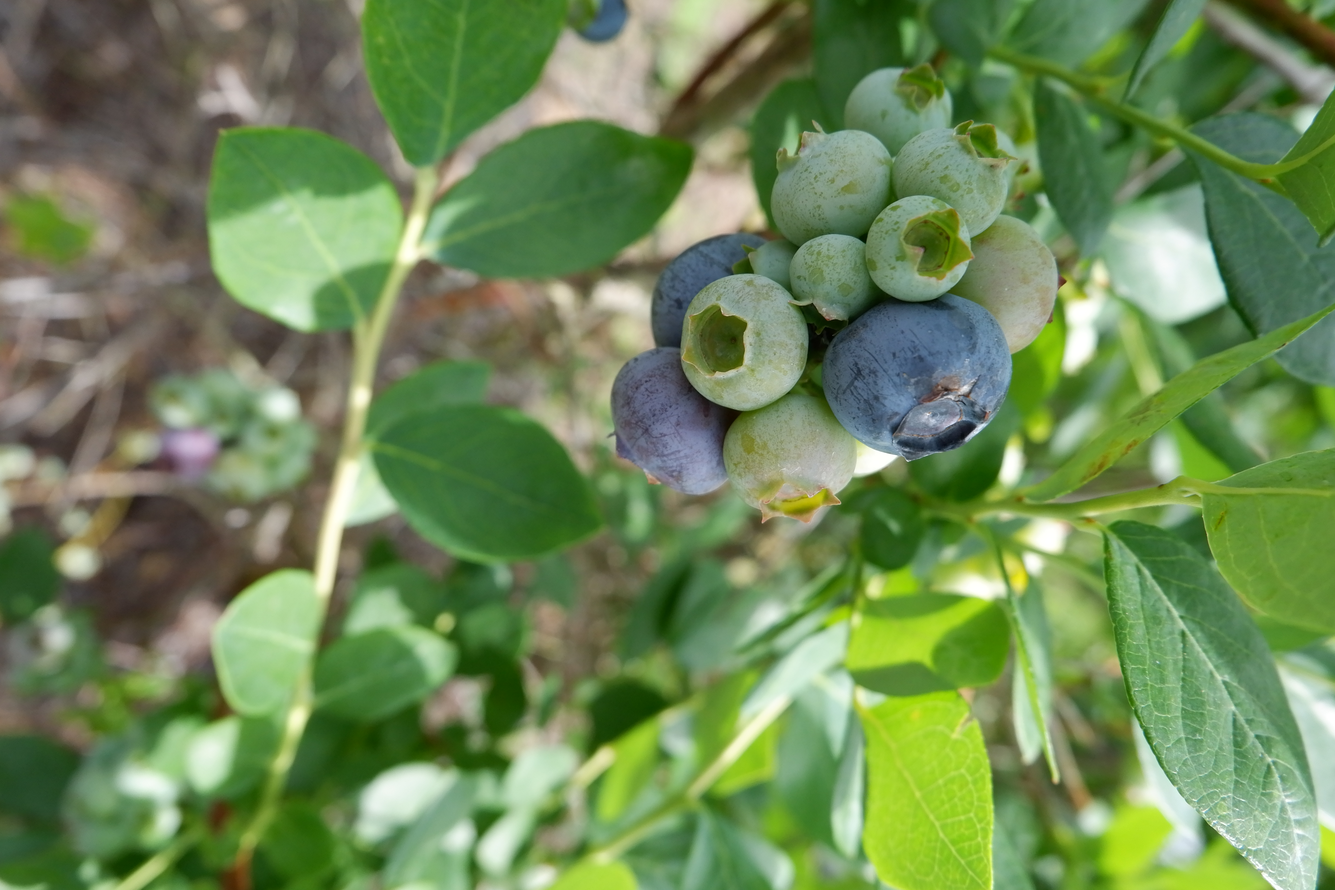Immature: (726, 391, 856, 517), (682, 277, 807, 405), (771, 127, 892, 241), (958, 219, 1057, 349), (894, 127, 1015, 232), (870, 196, 970, 297), (847, 67, 949, 155), (792, 236, 876, 319), (733, 238, 800, 297), (758, 491, 839, 523), (854, 437, 893, 474)
Mature: (823, 296, 1010, 452), (611, 349, 737, 489), (650, 235, 766, 347)
